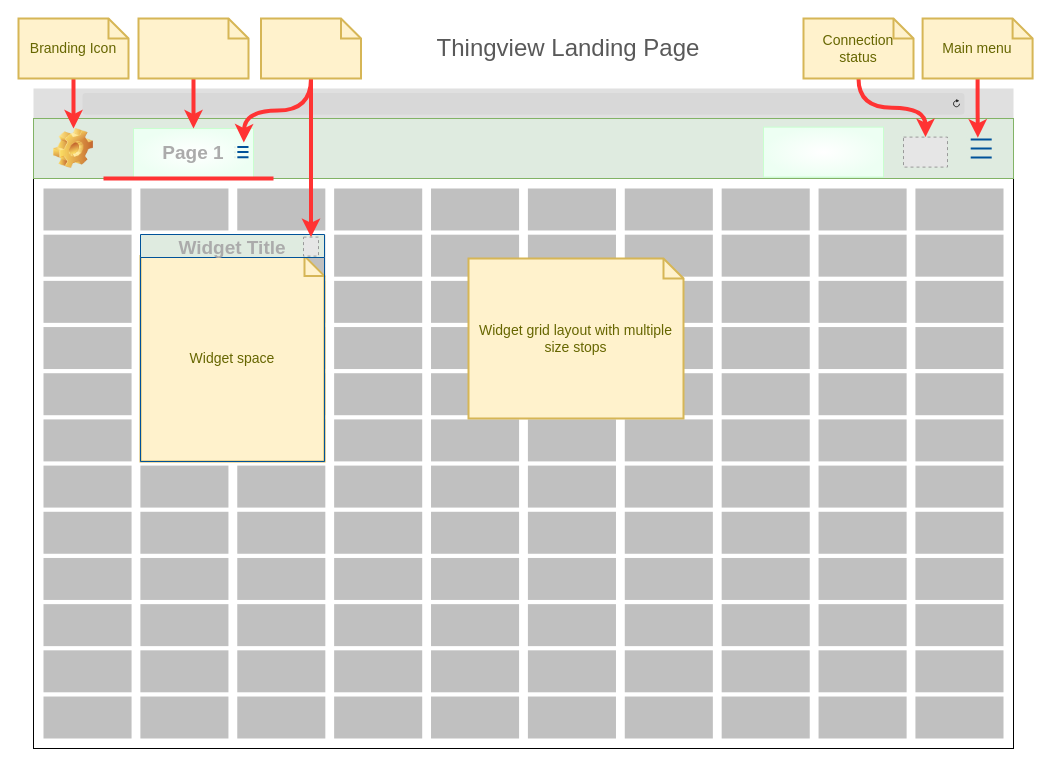
Image size: 1051x766. Some labels were removed from this diagram. Grey dashed boxes stand in for pictures. Here are the shapes that lost their labels. From the top down, the centre of each, then its label:
At [193,48]: "Multi page landing".
At [311,48]: "Edit mode".
At [523,103]: "URL: https://server/Page1?attr=value view URL can be bookmarked".
At [823,151]: "Things".
